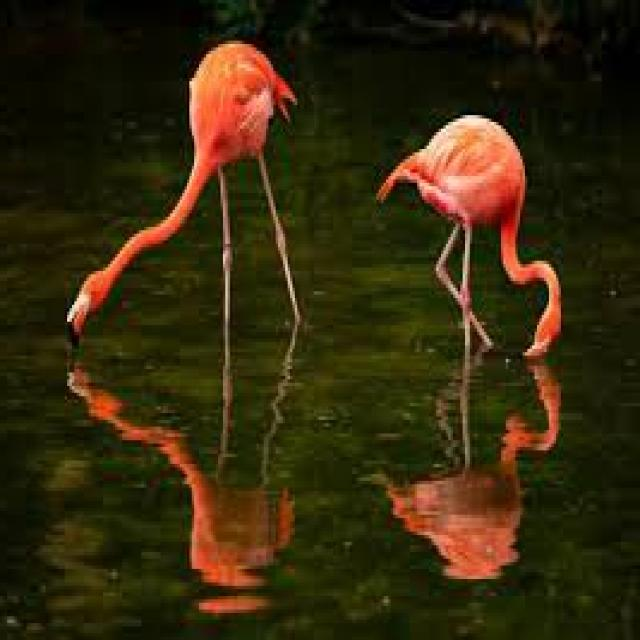flamingo: (67, 41, 300, 450), (379, 115, 561, 464)
